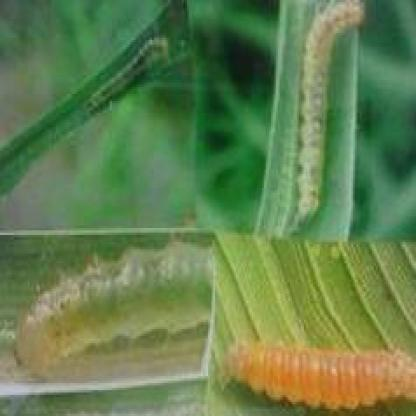leaf-folder: (12, 234, 203, 366), (290, 0, 372, 226), (229, 322, 416, 415), (75, 20, 176, 128)
